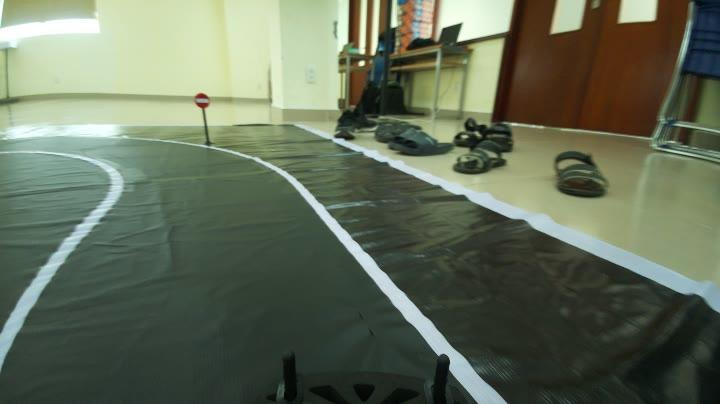no_entry: (188, 88, 218, 111)
